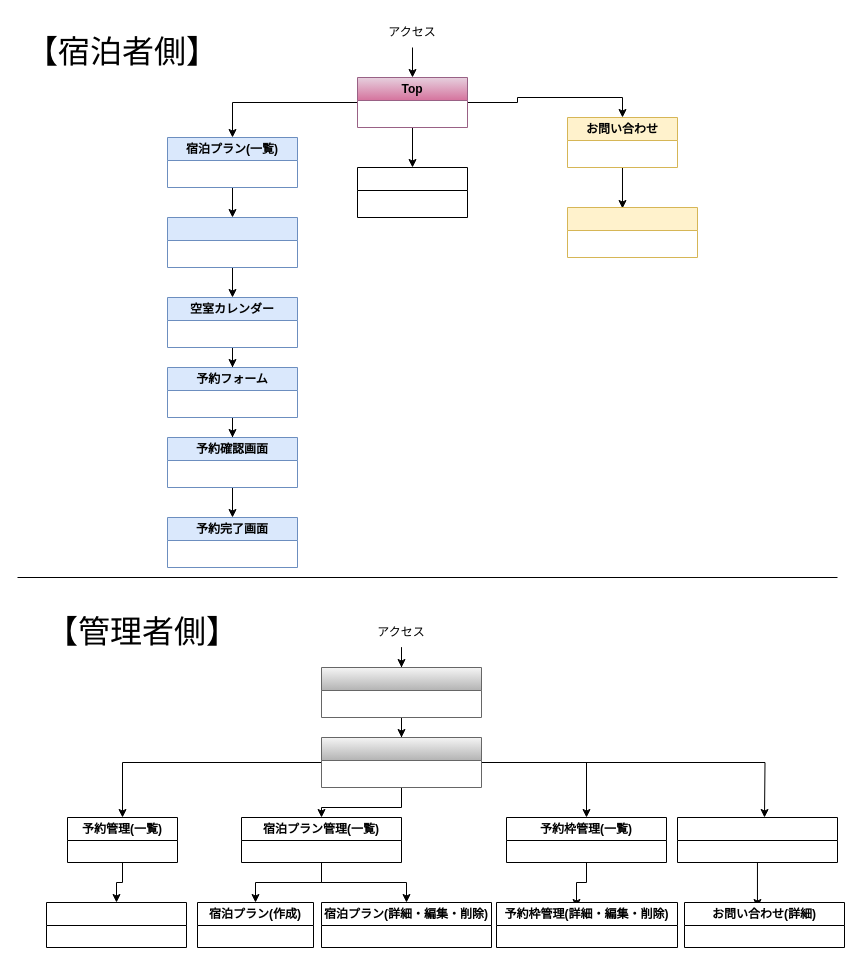
The diagram is 862 pixels wide and 965 high, and some of its shapes have lost their labels. Each missing label, with the centre of its shape:
"お問い合わせ(一覧)" goes at pixel 757 839.
"お問い合わせ(完了)" goes at pixel 632 232.
"アクセス案内" goes at pixel 412 192.
"ダッシュボード" goes at pixel 401 762.
"予約プラン(詳細・編集)" goes at pixel 116 925.
"宿泊プラン(詳細)" goes at pixel 232 242.
"管理者画面ログイン" goes at pixel 401 692.
